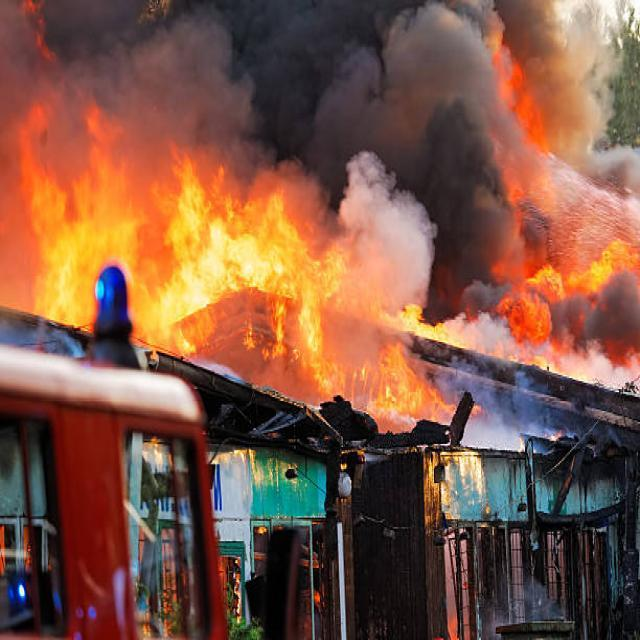Fire: (8, 54, 346, 388)
Smoke: (125, 0, 544, 285)
